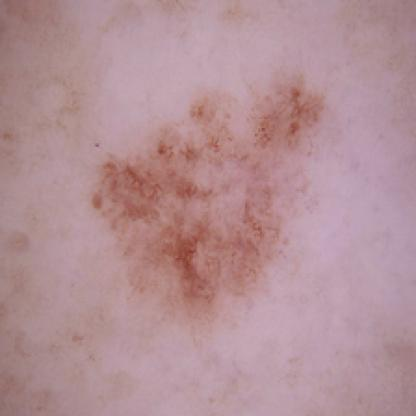Skin_Cancer-Malignant: (89, 65, 327, 337)
